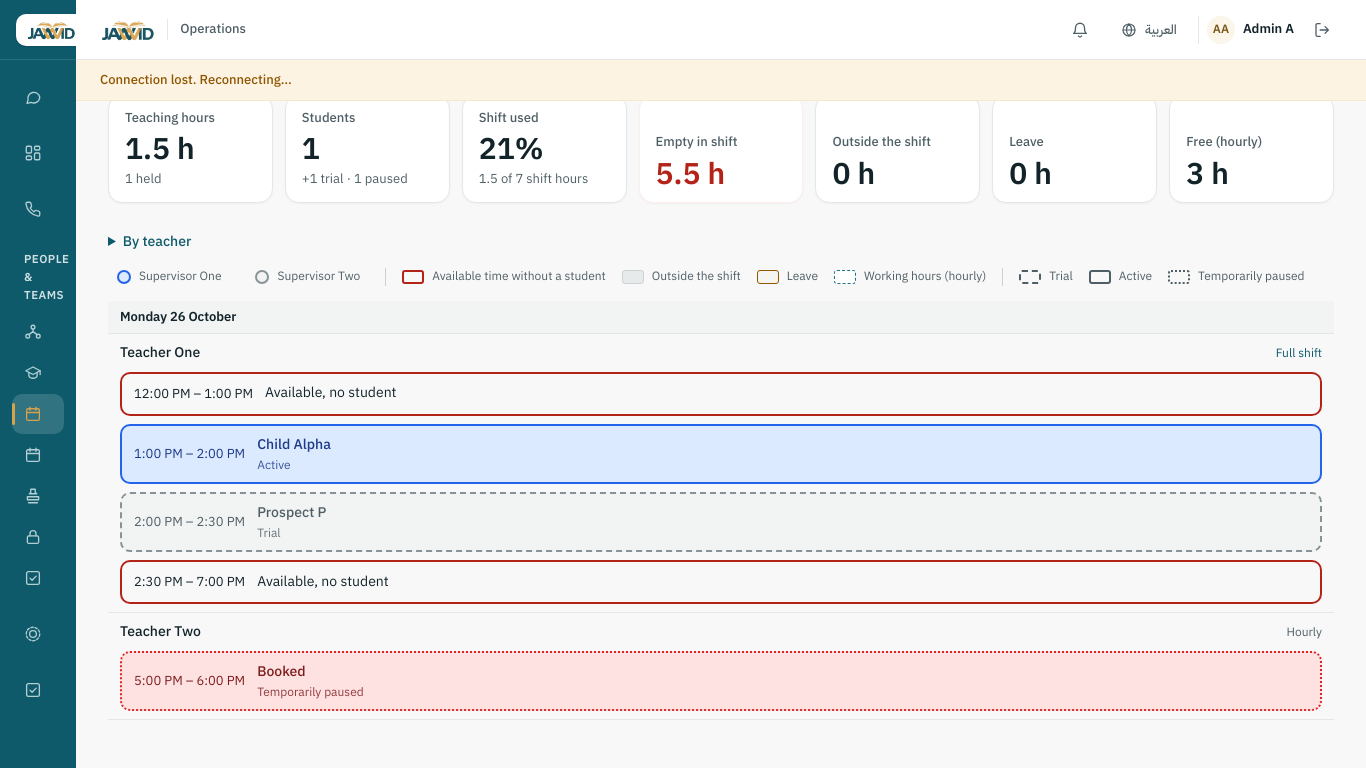
Test: on a phone › a day is an agenda: a date bar, each teacher's lessons and free shift time in order, as large rows
The image size is (1366, 768).
(page scrolled)
Expected: the text "Available, no student" next to "12:00 PM – 1:00 PM" is shown, [265,382,396,403]
Click the button with aria-label "Child Alpha · 1:00 PM – 2:00 PM · Active".
click(190, 453)  # box [120,424,1322,484]
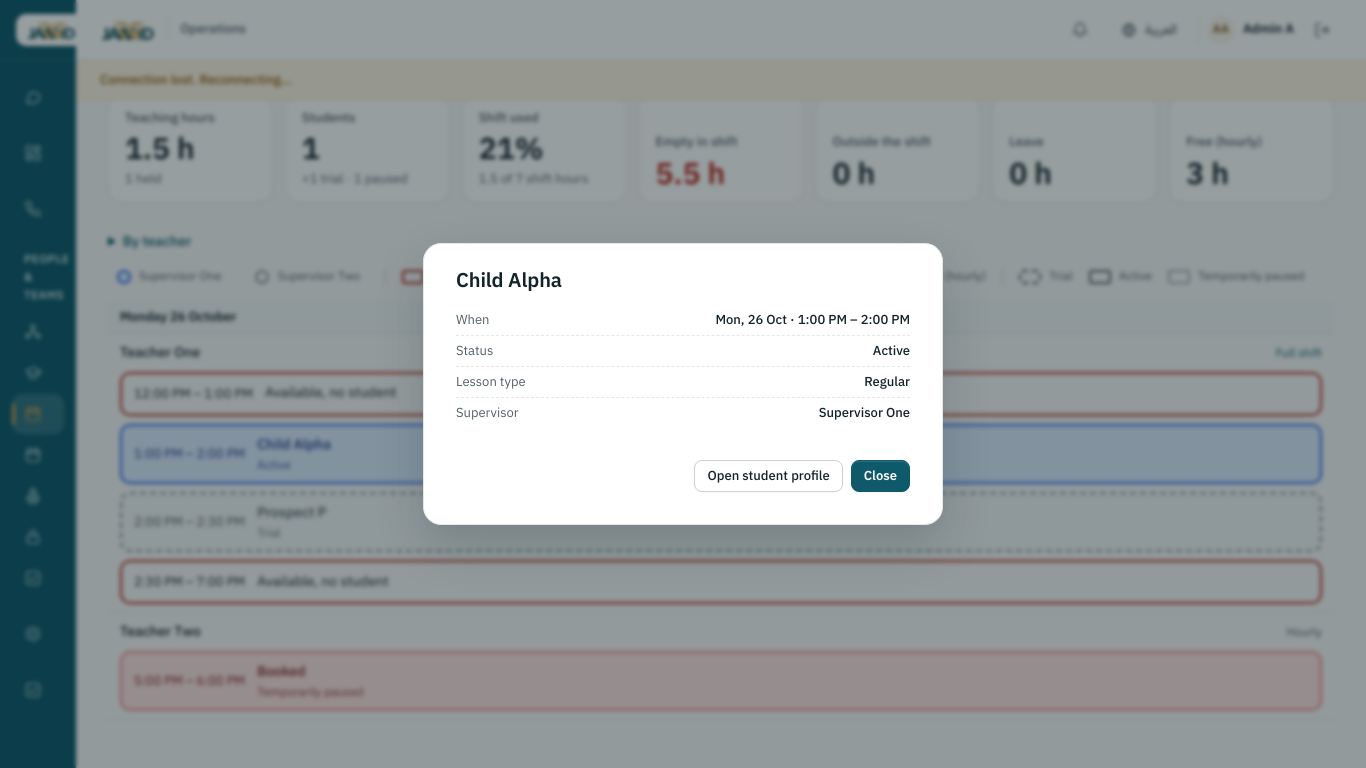
Expected: the dialog "Child Alpha" is shown, [423,243,943,525]
